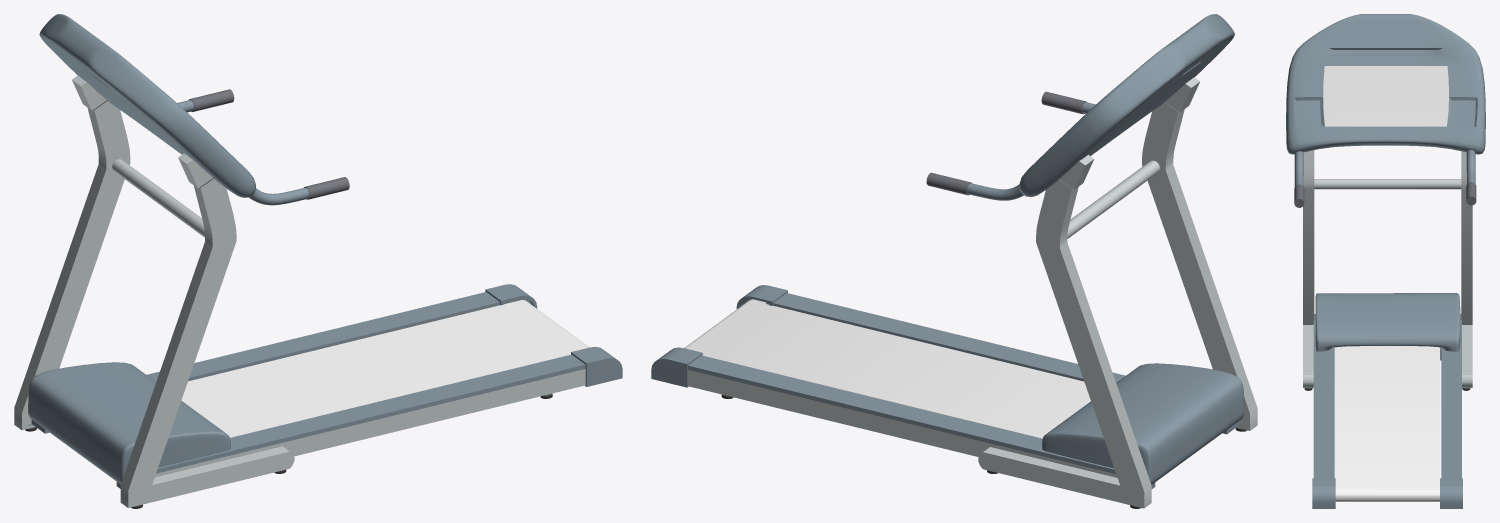
File: Treadmill.glb
The picture shows the model from 3 angles, left to right: view 1: azimuth 30°, elevation 25°; view 2: azimuth 150°, elevation 25°; view 3: azimuth 270°, elevation 25°; orthographic projection. The views are drawn at different scales.
Visible parts, largest first — view 1: Lower_Base (×3), Supporting_Rods, Front_Screen, extrudedSurface1; view 2: Lower_Base (×3), Supporting_Rods, Front_Screen, extrudedSurface1; view 3: Lower_Base (×2), Front_Screen (×2), Supporting_Rods, extrudedSurface1 (×2), pCylinder8.
Part boxes in pixels (left/top/right/bottom): Lower_Base (×3): left=28, top=284, right=622, bottom=488; Supporting_Rods: left=14, top=75, right=294, bottom=507; Front_Screen: left=39, top=14, right=255, bottom=197; extrudedSurface1: left=248, top=187, right=309, bottom=205; Lower_Base (×3): left=651, top=285, right=1244, bottom=488; Supporting_Rods: left=978, top=77, right=1257, bottom=508; Front_Screen: left=1019, top=14, right=1234, bottom=196; extrudedSurface1: left=967, top=183, right=1023, bottom=200; Lower_Base (×2): left=1312, top=293, right=1462, bottom=508; Front_Screen (×2): left=1286, top=14, right=1485, bottom=154; Supporting_Rods: left=1303, top=150, right=1472, bottom=387; extrudedSurface1 (×2): left=1294, top=150, right=1475, bottom=186; pCylinder8: left=1466, top=182, right=1476, bottom=205.
Size of the model in its own units: 27.25 by 22.54 by 12.62.
